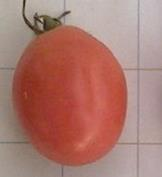tomato: (12, 25, 127, 166)
